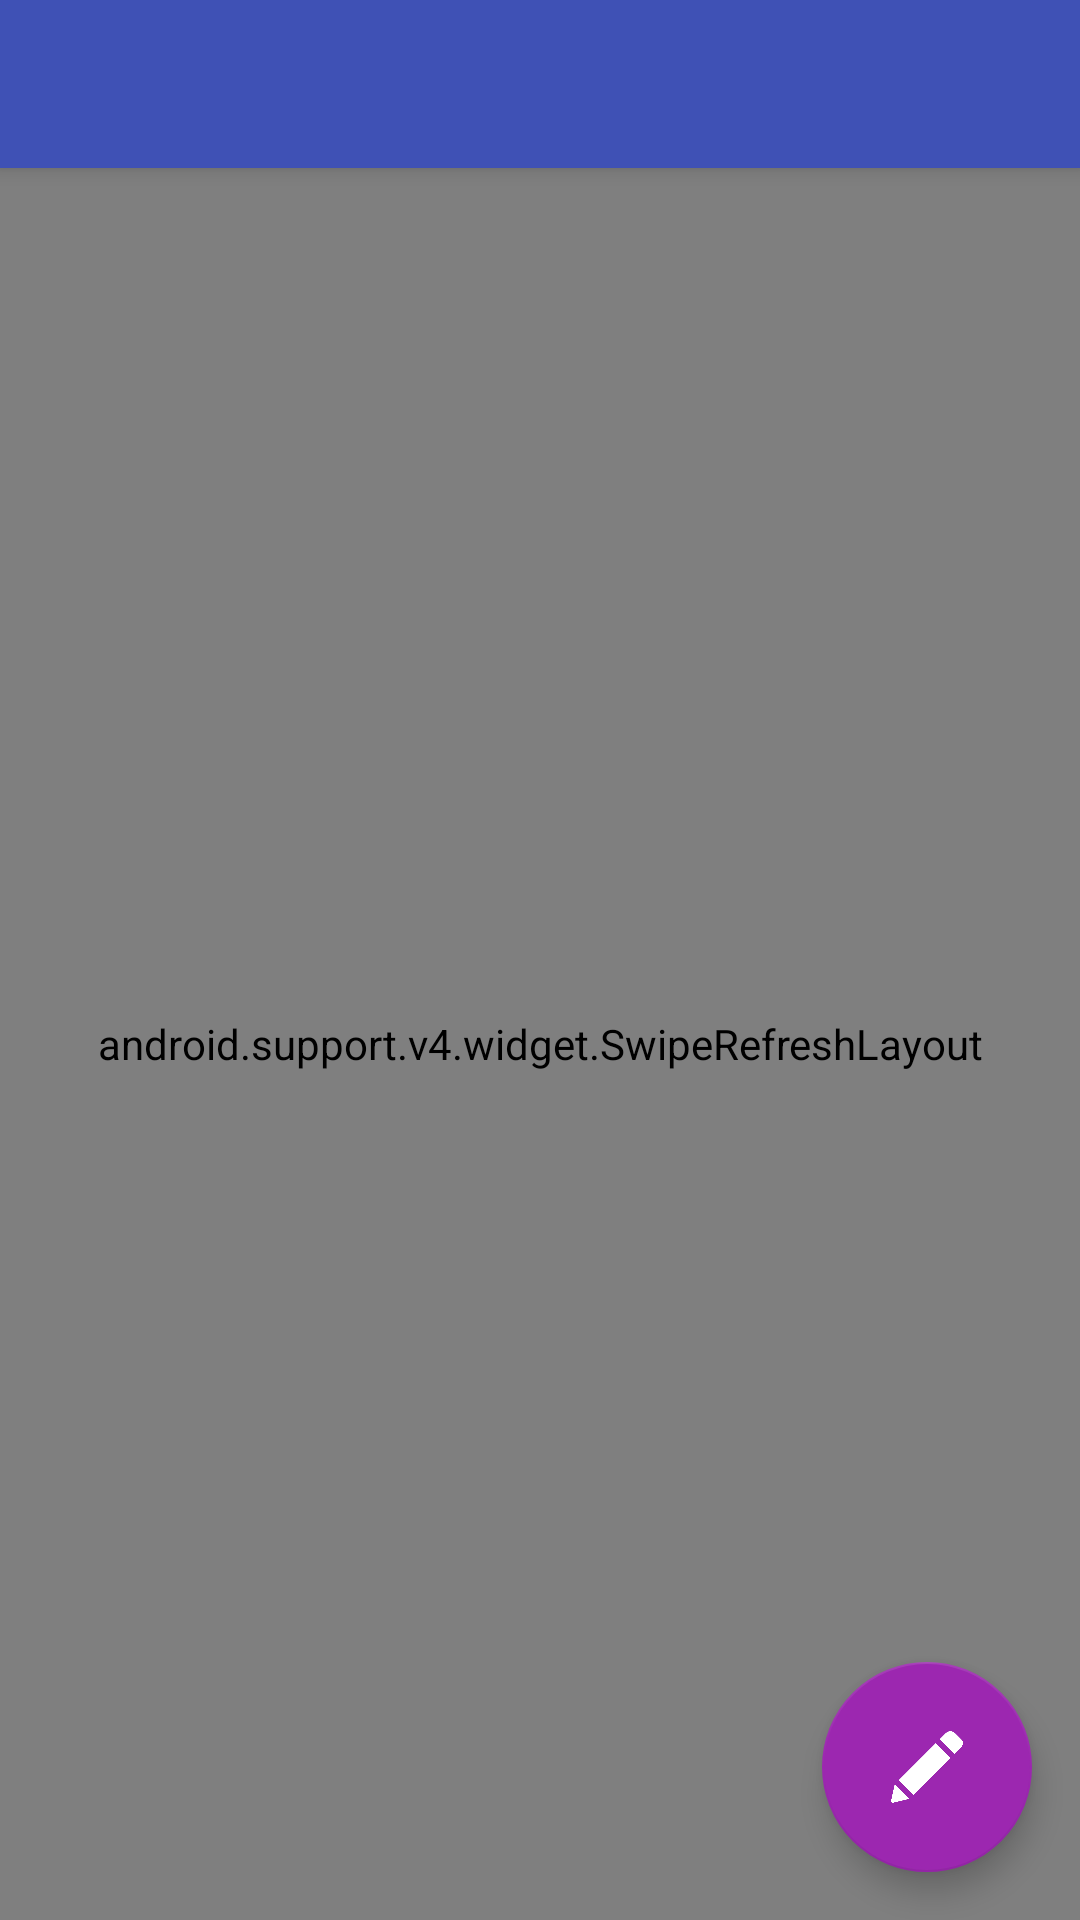

Locate icon controls on the screen. Image size 1080px×1920px, boxes as bbox=(x1, y1, x2, y2).
write article: bbox=(822, 1662, 1032, 1872)
